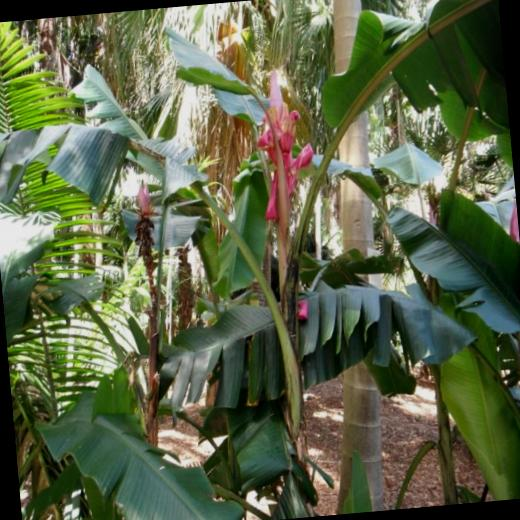Banana: (140, 204, 143, 214)
